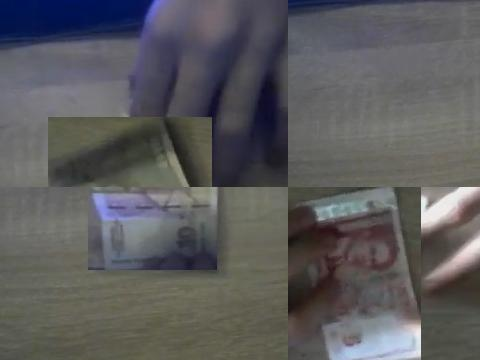10leva: (91, 187, 216, 270), (48, 117, 193, 187)
5leva: (288, 187, 425, 360), (288, 187, 421, 360)
